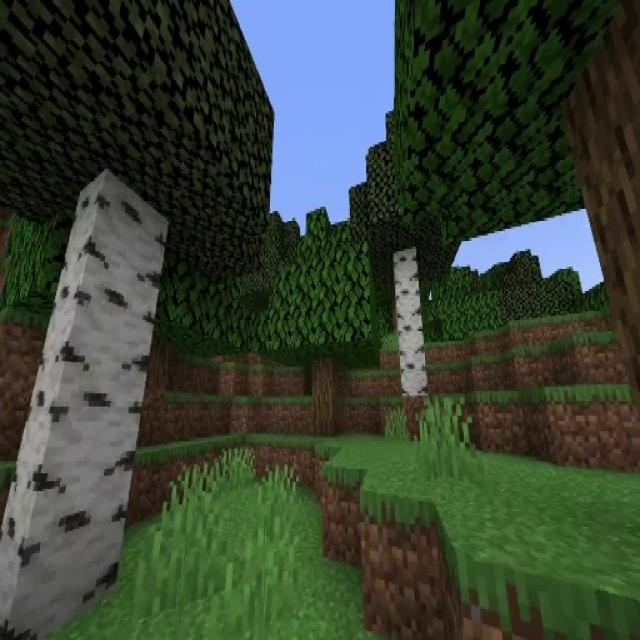birch: (0, 0, 276, 600), (349, 113, 458, 397)
birch_log: (0, 172, 170, 639), (394, 248, 429, 396)
oak: (270, 207, 378, 438)
oak_log: (314, 360, 340, 439)
